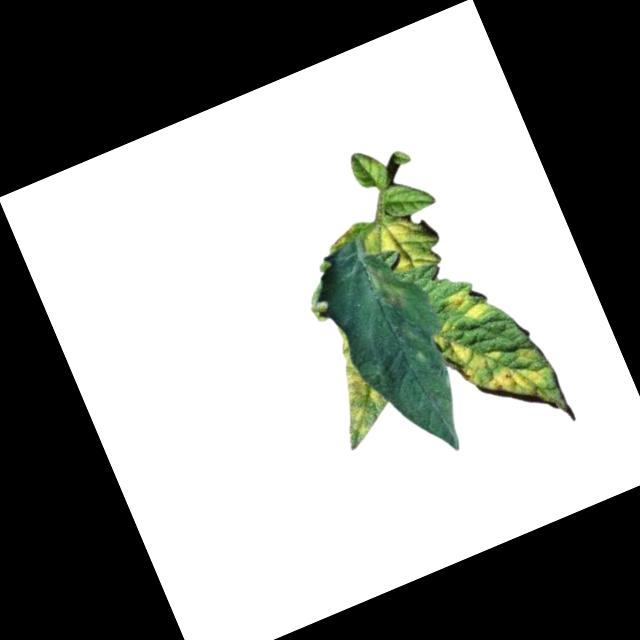Leaf_Mold: (432, 298, 562, 435), (311, 343, 399, 452), (360, 207, 444, 284), (361, 255, 410, 319), (444, 279, 493, 331)
